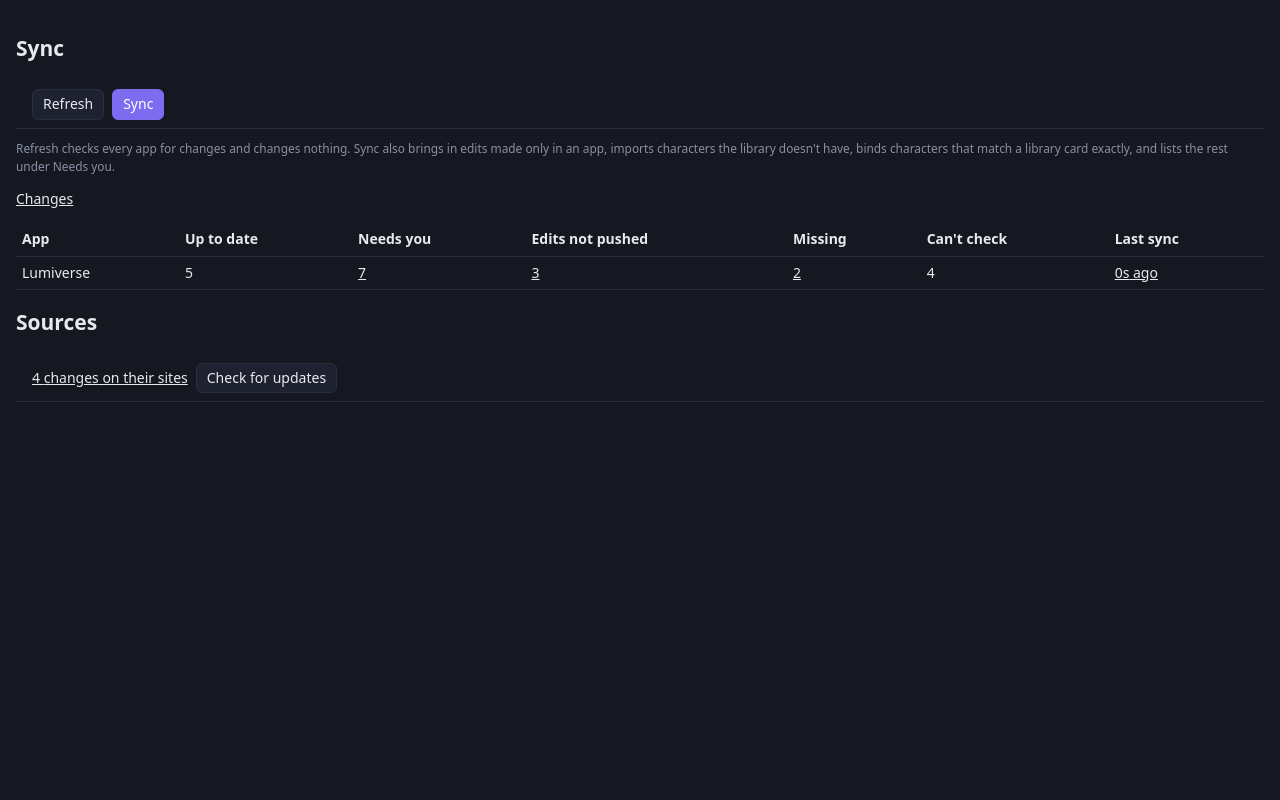
Test case: Sync starts one run for every app
This screenshot has width=1280, height=800.
Expected: the row "Lumiverse 5 7 3 2 4 0s ago" is shown, [16,256,1264,289]
Click the button "Sync": [138, 104] box [112,89,164,120]
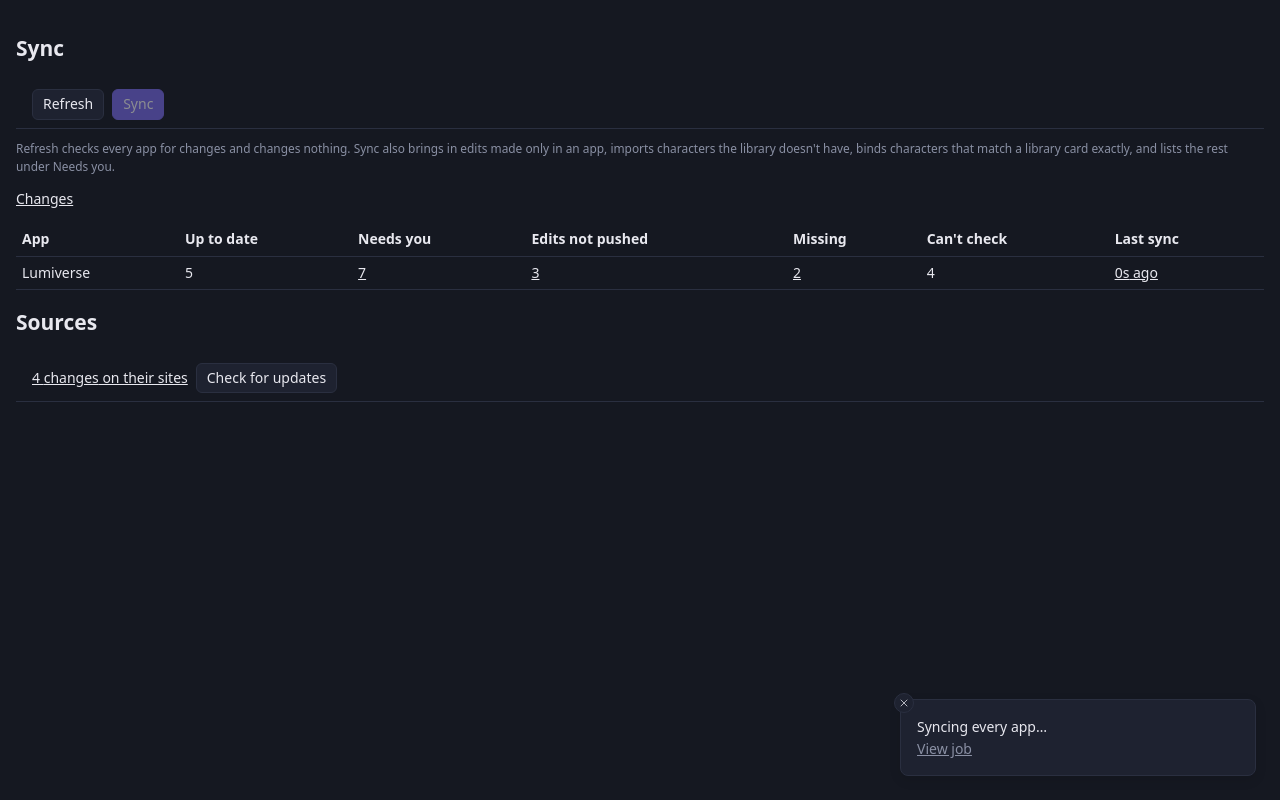
Expected: the text "Syncing every app…" is shown, [917,716,1047,737]
Expected: the button "Sync" is disabled, [112,89,164,120]
